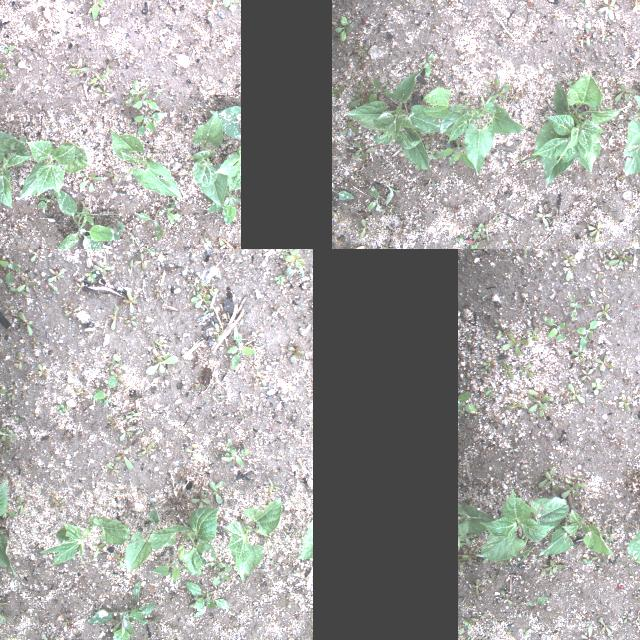crop: (523, 74, 619, 184), (344, 70, 438, 172), (422, 86, 522, 174), (460, 487, 568, 563), (222, 497, 284, 583), (108, 128, 182, 198), (151, 508, 217, 580), (40, 517, 132, 567), (18, 140, 88, 200), (539, 512, 615, 558), (192, 110, 228, 206), (0, 128, 32, 207), (208, 150, 240, 224), (124, 510, 158, 570), (622, 86, 640, 185), (0, 478, 16, 578), (624, 498, 640, 564), (211, 105, 241, 139), (298, 516, 312, 560)
weed: (86, 581, 159, 640), (53, 188, 119, 249), (183, 581, 230, 617), (225, 328, 257, 372), (499, 326, 538, 356), (574, 316, 610, 348), (433, 140, 469, 168), (134, 210, 164, 242), (459, 608, 489, 640), (524, 387, 554, 418), (564, 469, 588, 507), (597, 249, 634, 272), (148, 349, 178, 377), (134, 110, 166, 136), (542, 314, 566, 344), (562, 378, 586, 407), (222, 442, 250, 466), (538, 463, 560, 493), (332, 187, 353, 217), (124, 80, 148, 106), (459, 546, 479, 576), (521, 594, 551, 614), (283, 249, 306, 275), (614, 82, 638, 106), (348, 82, 372, 106), (592, 353, 616, 377), (560, 252, 578, 284), (371, 76, 393, 102), (332, 15, 353, 42), (470, 572, 490, 600), (206, 480, 226, 506), (458, 390, 478, 416), (594, 301, 614, 327), (486, 80, 509, 102), (0, 258, 18, 285), (158, 202, 180, 224), (566, 294, 582, 324), (512, 546, 536, 566), (132, 92, 158, 110), (540, 559, 568, 575), (213, 564, 233, 586), (79, 174, 103, 192), (580, 554, 604, 572), (594, 614, 612, 638), (86, 0, 107, 20), (366, 183, 380, 213), (576, 621, 598, 640), (418, 52, 434, 78), (117, 222, 137, 242), (616, 392, 636, 412), (600, 524, 620, 544), (38, 192, 56, 214), (516, 362, 538, 380), (578, 22, 592, 50), (472, 333, 491, 353), (18, 309, 32, 336), (598, 0, 615, 22), (286, 345, 306, 363), (0, 426, 20, 444), (115, 450, 133, 470), (483, 382, 501, 402), (593, 282, 613, 300), (588, 264, 610, 280), (498, 585, 514, 607), (588, 218, 602, 242), (456, 237, 484, 249), (124, 290, 138, 314), (490, 318, 504, 342), (340, 118, 358, 136), (108, 353, 126, 371), (92, 388, 112, 404), (134, 252, 150, 272), (17, 277, 37, 293), (108, 370, 124, 390), (497, 361, 513, 381), (504, 570, 524, 586), (332, 78, 343, 106), (190, 294, 212, 308), (189, 493, 211, 507), (0, 587, 8, 624), (95, 84, 113, 100), (598, 29, 616, 45), (537, 212, 553, 230), (118, 426, 136, 442), (208, 554, 226, 570), (91, 262, 111, 276), (110, 304, 120, 332), (590, 378, 604, 398), (568, 350, 588, 364), (212, 322, 225, 343), (220, 439, 234, 458), (578, 368, 592, 387), (423, 134, 439, 150), (612, 580, 628, 596), (386, 185, 400, 203), (46, 267, 64, 281), (481, 356, 495, 374), (354, 140, 366, 160), (502, 400, 526, 410), (523, 621, 535, 640), (139, 442, 155, 456), (90, 544, 104, 560), (16, 496, 27, 516), (472, 220, 484, 238), (255, 370, 267, 388), (63, 306, 81, 318), (72, 58, 82, 78), (104, 170, 124, 180), (183, 448, 197, 462), (106, 463, 120, 477), (621, 612, 635, 626), (354, 44, 366, 60), (107, 413, 119, 429), (584, 296, 596, 312), (514, 0, 534, 9), (481, 226, 492, 242), (462, 633, 487, 640), (37, 364, 47, 381), (2, 43, 16, 55), (124, 314, 136, 328), (112, 553, 124, 567), (359, 220, 368, 238), (14, 350, 22, 370), (126, 429, 142, 439), (194, 374, 204, 390), (479, 292, 489, 308), (430, 23, 444, 34), (89, 76, 108, 84), (630, 0, 640, 15), (566, 75, 578, 87), (28, 338, 40, 350), (268, 480, 280, 492), (188, 284, 200, 296), (30, 249, 40, 263), (74, 387, 88, 397), (154, 340, 168, 350), (52, 498, 66, 508), (3, 510, 17, 520), (108, 168, 116, 185), (0, 59, 7, 78), (226, 0, 237, 12), (208, 1, 216, 17), (125, 411, 141, 419), (10, 288, 26, 296), (69, 68, 89, 74), (616, 76, 626, 88), (56, 404, 68, 414), (271, 306, 283, 316), (46, 282, 58, 292), (39, 633, 55, 640), (85, 272, 96, 282), (507, 237, 517, 247), (248, 359, 258, 369), (274, 275, 284, 285), (61, 302, 71, 312), (204, 236, 212, 248), (2, 306, 14, 314), (60, 618, 72, 626), (76, 282, 84, 294), (200, 280, 212, 288), (210, 284, 218, 296), (120, 486, 132, 494), (219, 0, 234, 6), (634, 108, 640, 123), (386, 203, 394, 214), (154, 285, 160, 299), (156, 274, 164, 284), (632, 301, 640, 311), (8, 391, 15, 401), (86, 213, 120, 215), (493, 215, 499, 225), (123, 511, 133, 517), (291, 500, 301, 506), (240, 312, 244, 326), (217, 394, 226, 400), (192, 470, 205, 474), (108, 64, 112, 76), (50, 490, 56, 498), (5, 449, 12, 455), (203, 309, 210, 315), (506, 215, 512, 221), (0, 446, 3, 458), (130, 260, 134, 268), (0, 636, 7, 640), (196, 638, 209, 640), (155, 90, 161, 94), (13, 416, 19, 420), (214, 452, 218, 458), (109, 460, 113, 466)
